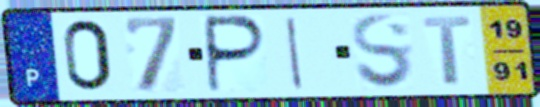0: (59, 18, 116, 95)
7: (122, 15, 182, 95)
I: (283, 14, 306, 92)
P: (205, 14, 270, 95)
S: (349, 12, 417, 92)
T: (420, 14, 474, 87)
